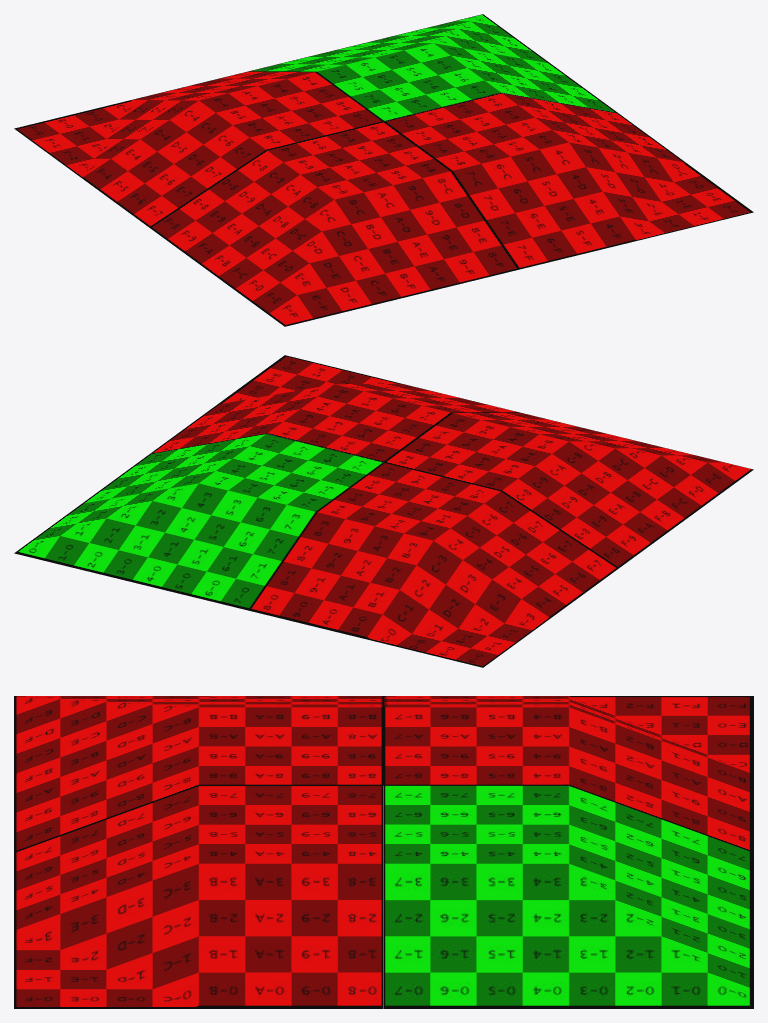
Rendered from MorphPrimitivesTest.gltf.
The picture shows the model from 3 angles, top to bottom: view 1: azimuth 30°, elevation 25°; view 2: azimuth 150°, elevation 25°; view 3: azimuth 270°, elevation 25°; orthographic projection. The views are drawn at different scales.
Visible parts, largest first — view 1: ルートパート; view 2: ルートパート; view 3: ルートパート.
Boxes of the visible parts, <box> form: ルートパート: <box>14,14,753,326</box>; ルートパート: <box>14,355,753,667</box>; ルートパート: <box>14,696,753,1008</box>.
Size of the model in its own units: 1 by 0.1 by 1.
2 materials, 2 textured.
